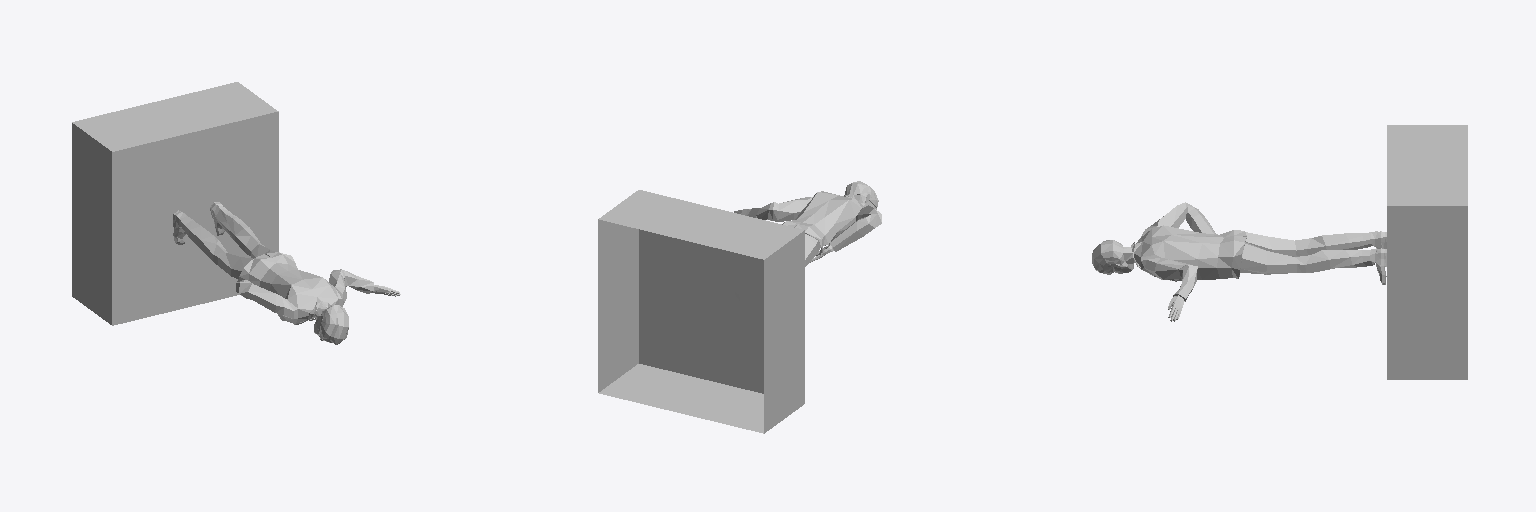
Rendered from statue.obj.
3 views of the same model, side by side, from view 1: azimuth 30°, elevation 25°; view 2: azimuth 150°, elevation 25°; view 3: azimuth 270°, elevation 25° (orthographic).
Parts seen in each view (by area): view 1: statue; view 2: statue; view 3: statue.
Part boxes in pixels (left/top/right/bottom): statue: left=72, top=82, right=400, bottom=344; statue: left=598, top=181, right=881, bottom=433; statue: left=1092, top=125, right=1467, bottom=379.
Bounding box in the file's own units: 7.15 × 6.58 × 12.9.